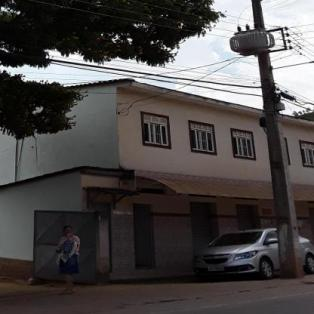Poste: (245, 0, 307, 276)
